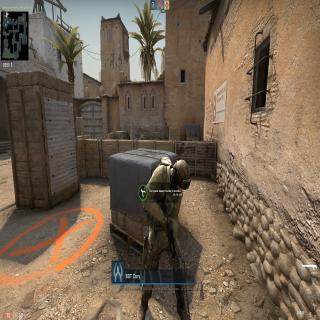CT-Head: (170, 154, 192, 200)
